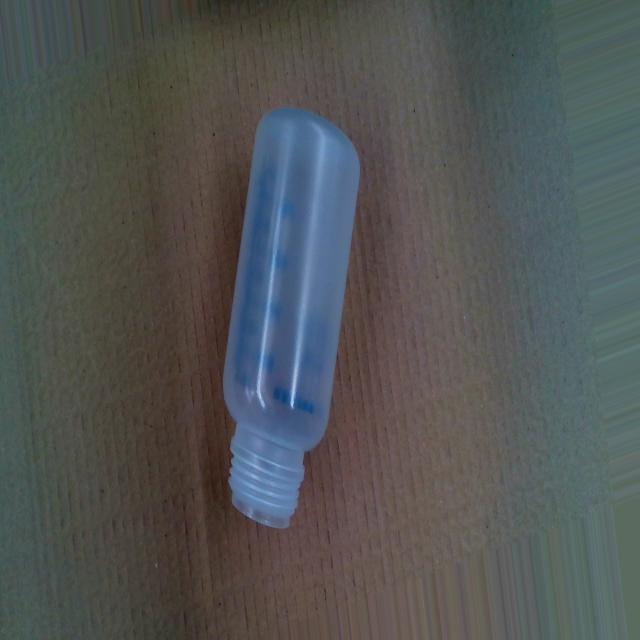bottle: (222, 105, 361, 533)
